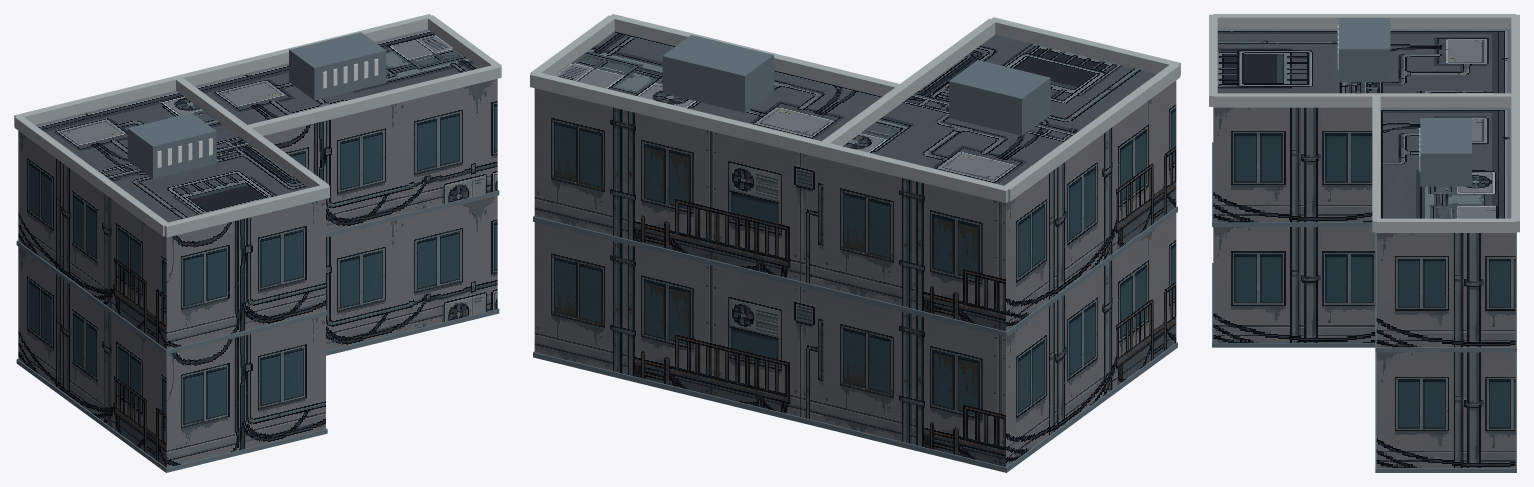
The model's file is street_south_court.glb.
3 views of the same model, side by side, from view 1: azimuth 30°, elevation 25°; view 2: azimuth 150°, elevation 25°; view 3: azimuth 270°, elevation 25° (orthographic). The views are drawn at different scales.
Visible parts, largest first — view 1: street_south_court; view 2: street_south_court; view 3: street_south_court.
Boxes of the visible parts, x1,y1,x2,y2 form: street_south_court: (14, 14, 501, 472); street_south_court: (530, 14, 1180, 472); street_south_court: (1209, 14, 1519, 472).
Size of the model in its own units: 8.14 by 5 by 5.14.
5 materials, 2 textured.
